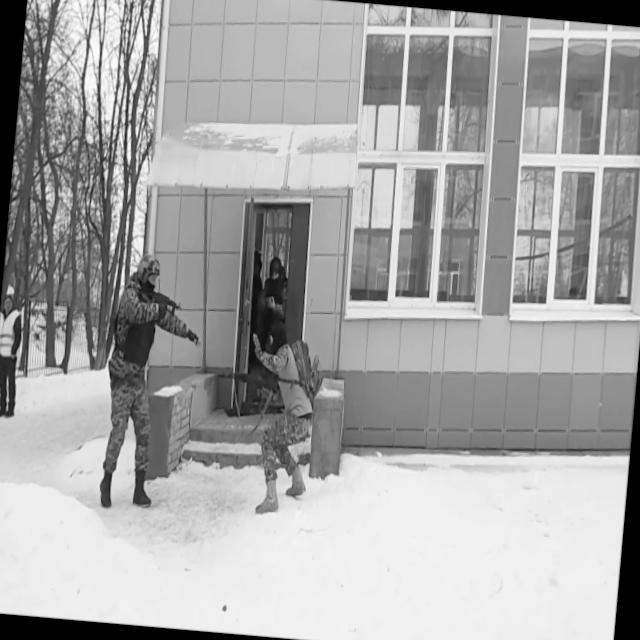gun: (215, 364, 282, 414), (134, 284, 184, 328)
person: (250, 253, 292, 402), (0, 286, 27, 419)
person with a gun: (94, 248, 208, 516), (207, 318, 320, 519)
